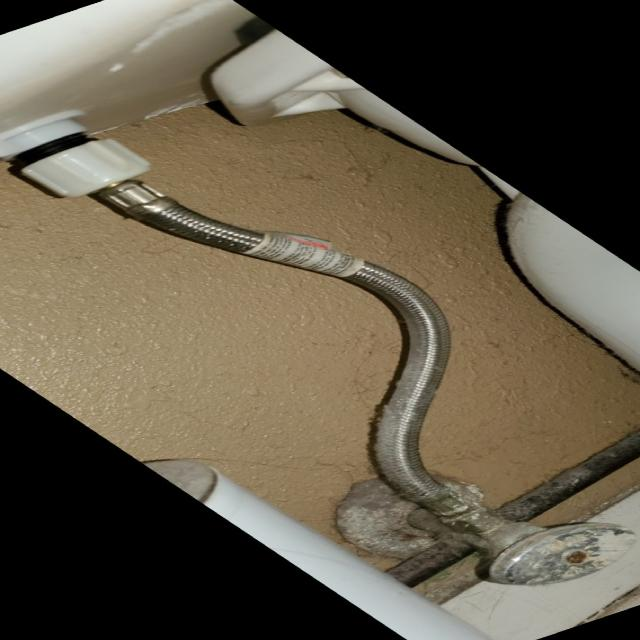good_coupler: (14, 140, 153, 199)
good_line: (110, 178, 522, 538)
rusty_valve: (409, 512, 632, 580)
